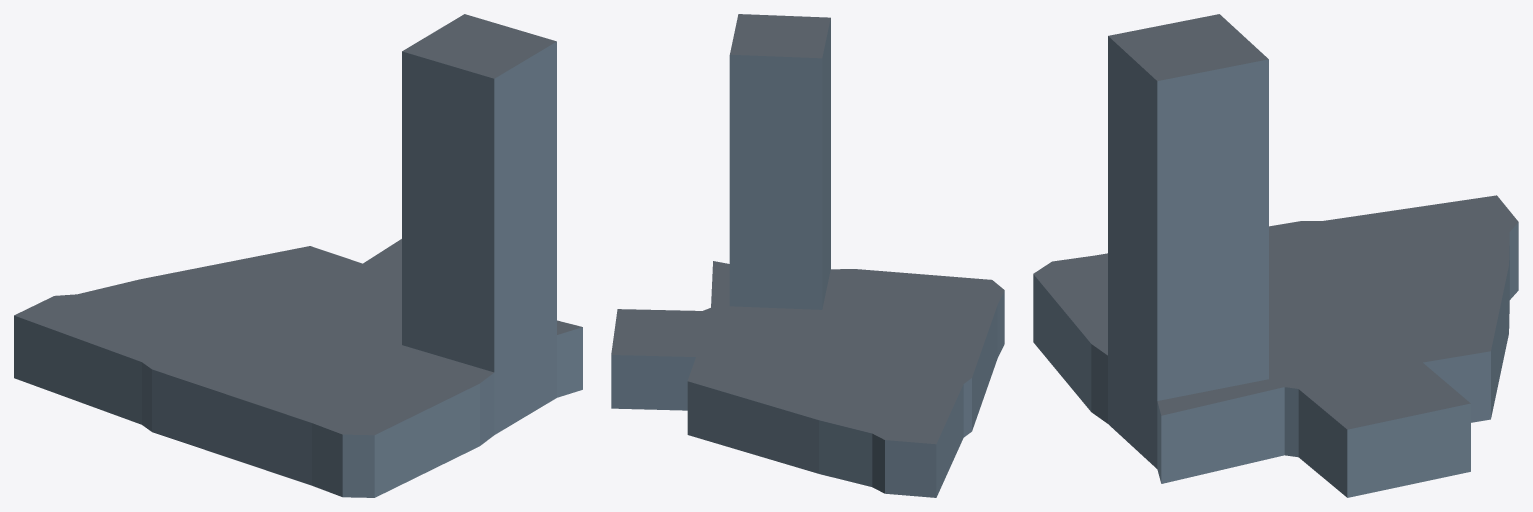
3 views of the same model, side by side, from view 1: azimuth 30°, elevation 25°; view 2: azimuth 150°, elevation 25°; view 3: azimuth 270°, elevation 25° (orthographic). The views are drawn at different scales.
Visible parts, largest first — view 1: HP-w525387329; view 2: HP-w525387329; view 3: HP-w525387329.
Part boxes in pixels (bbox=[...]): HP-w525387329: bbox=[14, 14, 582, 497]; HP-w525387329: bbox=[611, 14, 1004, 497]; HP-w525387329: bbox=[1033, 14, 1518, 497].
Bounding box in the file's own units: 140 × 108 × 122.
